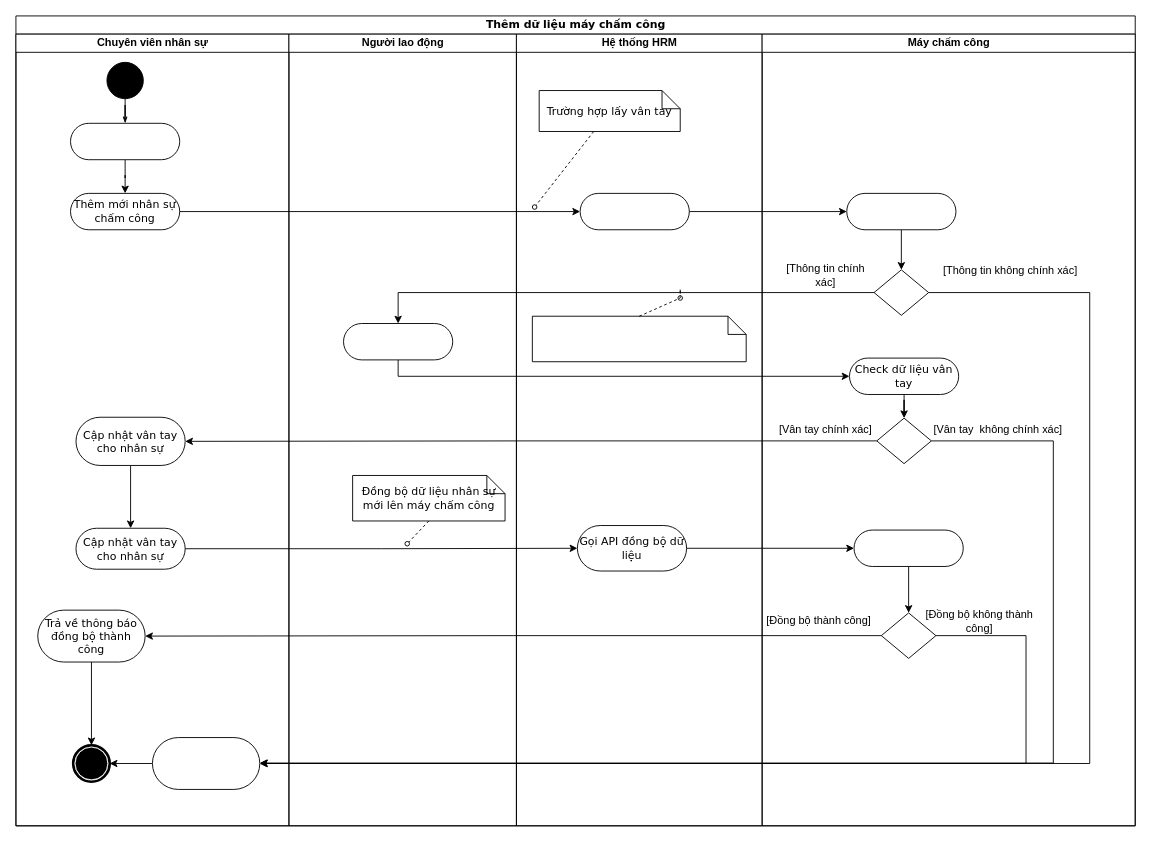
Image size: 1151x842. Some labels were removed from this diagram. Here are the shapes that lost their labels. From the top down, the centre of each, then its label:
the point at 125,141: Thêm mới hồ sơ nhân sự
the point at 634,211: Gọi API lấy vân tay
the point at 901,211: Xác nhận API
the point at 398,341: Nhập vân tay trên máy
the point at 638,338: Trên máy chấm công mở ra giao diện cho người lao động lấy vân tay
the point at 908,547: Đồng bộ dữ liệu lên máy
the point at 206,763: Thông báo lỗi cho chuyên viên
